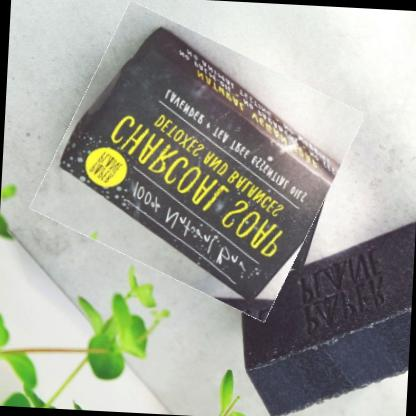soap: (42, 17, 352, 305)
